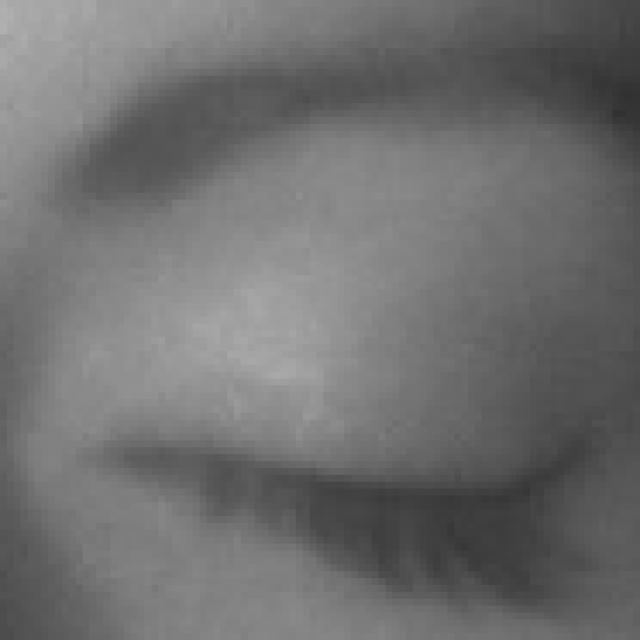Eyeclosed: (103, 282, 592, 640)
